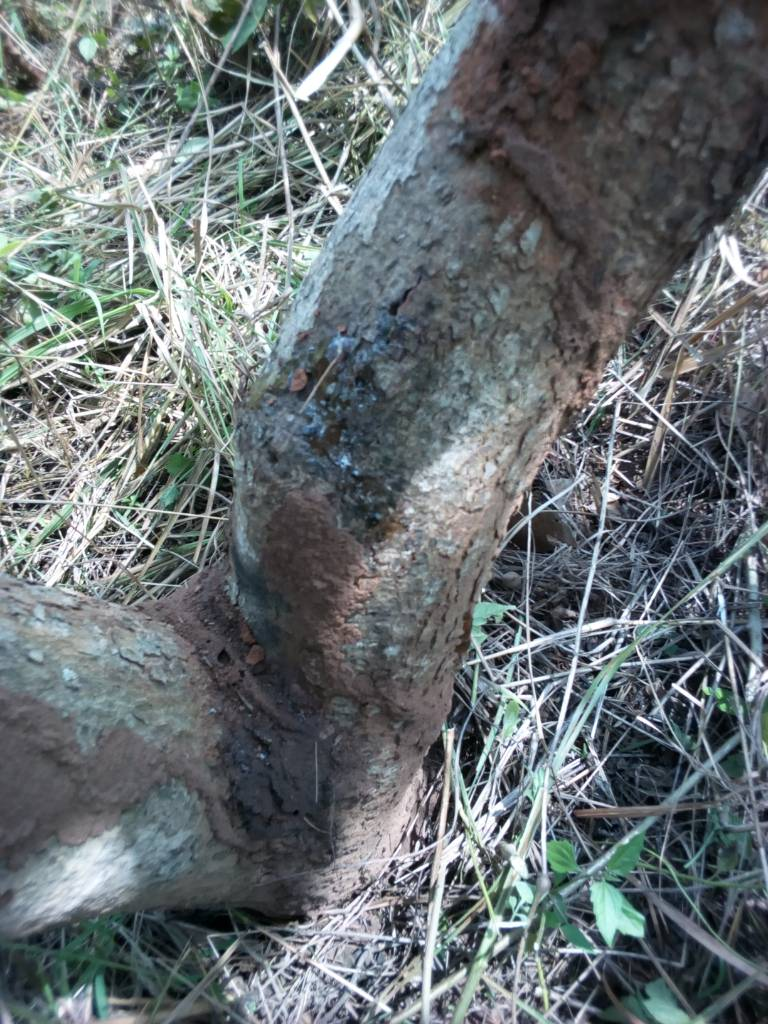Termites: (486, 108, 641, 341), (271, 500, 404, 697), (1, 716, 188, 825)
